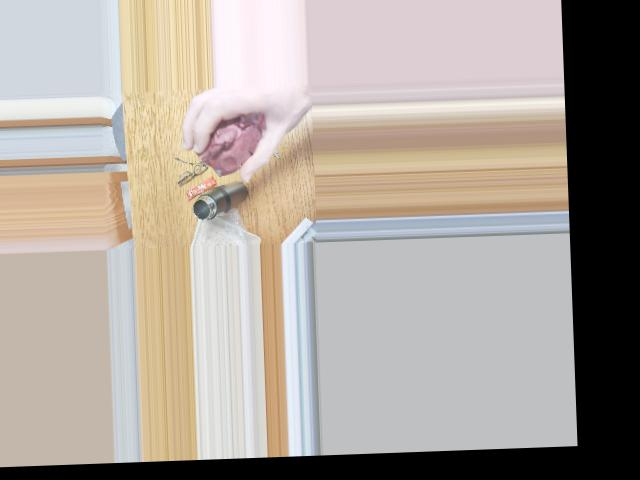onion: (195, 112, 266, 168)
